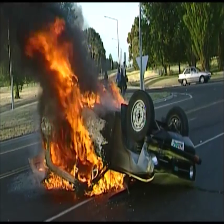fire_h: (27, 16, 107, 186), (84, 168, 125, 195), (44, 172, 74, 191)
fire_l: (111, 80, 127, 106), (38, 159, 49, 171), (99, 82, 106, 93)
